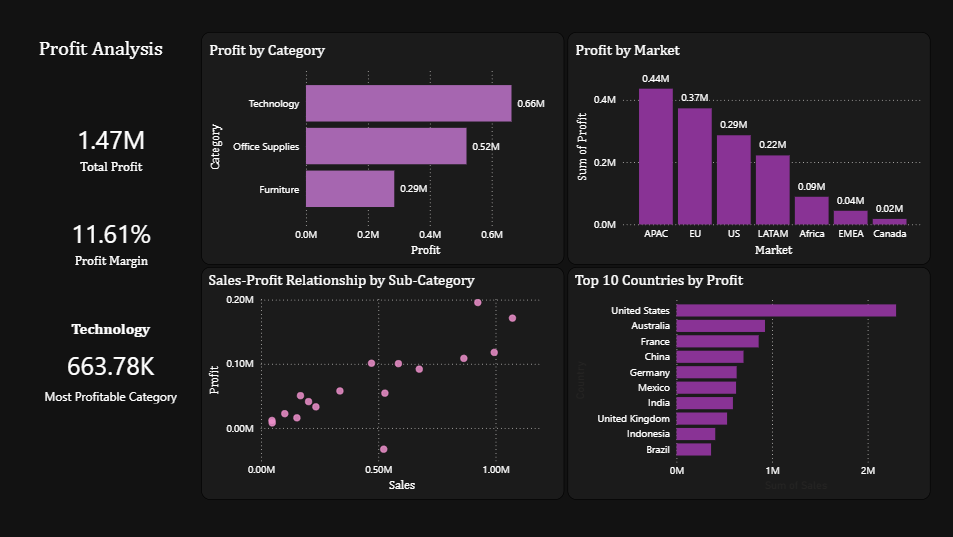

This screenshot's page, from the dashboard's own definition file:
{"tool":"powerbi","page":{"name":"Profit Analysis & Performance","canvas":[1280,720],"ordinal":1},"visuals":[{"type":"card","fields":{"Values":["Sum(Orders.Profit)"]},"box":[73.3,150,150,101.7],"z":0},{"type":"card","fields":{"Values":["Max(Orders.Profit Margin)"]},"box":[73.3,275,150,101.7],"z":1000},{"type":"barChart","title":"Profit by Category","fields":{"Category":["Orders.Category"],"Y":["Sum(Orders.Profit)"]},"box":[267.6,46.7,484.4,310.1],"z":2000},{"type":"scatterChart","title":"Sales-Profit Relationship by Sub-Category","fields":{"Category":["Orders.Sub-Category"],"X":["Sum(Orders.Sales)"],"Y":["Sum(Orders.Profit)"]},"box":[267.6,359.5,484.4,310.1],"z":3000},{"type":"barChart","title":"Top 10 Countries by Profit","fields":{"Category":["Orders.Country"],"Y":["Sum(Orders.Sales)"]},"box":[757.5,359.5,484.4,310.1],"z":4000},{"type":"cardVisual","fields":{"Rows":["Orders.Category"],"Data":["Sum(Orders.Profit)"]},"box":[45,410,205,155],"z":5000},{"type":"clusteredColumnChart","title":"Profit by Market","fields":{"Category":["Orders.Market"],"Y":["Sum(Orders.Profit)"]},"box":[757.1,47.1,484.3,310],"z":6000},{"type":"textbox","box":[46.7,46.7,176.7,48.3],"z":6001}]}

Visuals, with their boxes in screenshot pixels (x1, y1, x2, y2), scaled from the page's 1280x720 canvas onto the 953x537 screenshot:
card - Sum(Orders.Profit): Rect(55, 112, 166, 188)
card - Max(Orders.Profit Margin): Rect(55, 205, 166, 281)
"Profit by Category" barChart: Rect(199, 35, 560, 266)
"Sales-Profit Relationship by Sub-Category" scatterChart: Rect(199, 268, 560, 499)
"Top 10 Countries by Profit" barChart: Rect(564, 268, 925, 499)
cardVisual - Orders.Category x Sum(Orders.Profit): Rect(34, 306, 186, 421)
"Profit by Market" clusteredColumnChart: Rect(564, 35, 924, 266)
textbox: Rect(35, 35, 166, 71)
